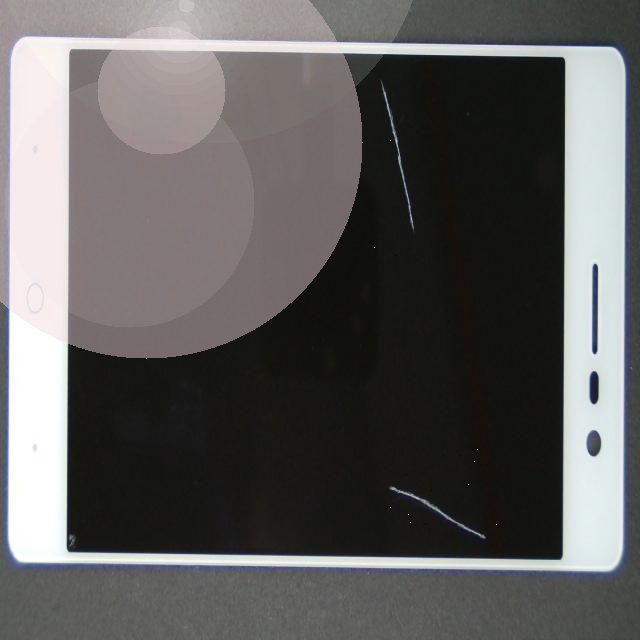scratch: (127, 234, 620, 640), (173, 0, 572, 178)
